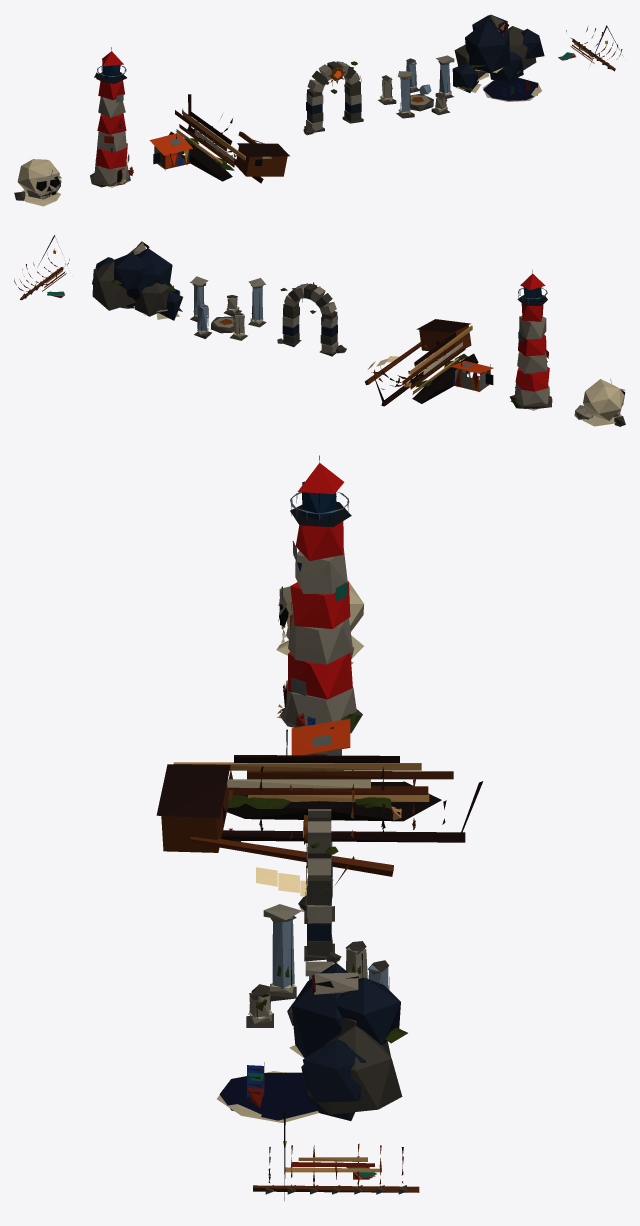
The model's file is tb_landmark_kit.three-web-toon.lod25.glb.
The picture shows the model from 3 angles, top to bottom: view 1: azimuth 30°, elevation 25°; view 2: azimuth 150°, elevation 25°; view 3: azimuth 270°, elevation 25°; orthographic projection. The views are drawn at different scales.
Parts seen in each view (by area): view 1: spring_lod, wreck_lod, lighthouse_lod, sun_arch_lod, pillar_ring_lod, skull_rock_lod, hut_lod, slipway_lod; view 2: spring_lod, wreck_lod, lighthouse_lod, sun_arch_lod, pillar_ring_lod, skull_rock_lod, hut_lod, slipway_lod; view 3: wreck_lod, spring_lod, lighthouse_lod, pillar_ring_lod, sun_arch_lod, slipway_lod, hut_lod, skull_rock_lod.
Boxes of the visible parts, bbox=[...] form: spring_lod: bbox=[452, 14, 544, 101]; wreck_lod: bbox=[169, 94, 289, 183]; lighthouse_lod: bbox=[90, 47, 133, 187]; sun_arch_lod: bbox=[303, 61, 363, 135]; pillar_ring_lod: bbox=[378, 55, 454, 118]; skull_rock_lod: bbox=[14, 159, 61, 206]; hut_lod: bbox=[149, 131, 192, 170]; slipway_lod: bbox=[558, 25, 622, 71]; spring_lod: bbox=[92, 241, 182, 320]; wreck_lod: bbox=[364, 319, 478, 406]; lighthouse_lod: bbox=[510, 270, 552, 410]; sun_arch_lod: bbox=[277, 282, 346, 356]; pillar_ring_lod: bbox=[190, 276, 266, 340]; skull_rock_lod: bbox=[574, 379, 625, 426]; hut_lod: bbox=[450, 358, 493, 391]; slipway_lod: bbox=[14, 235, 69, 300]; wreck_lod: bbox=[156, 755, 483, 896]; spring_lod: bbox=[217, 962, 407, 1122]; lighthouse_lod: bbox=[276, 455, 362, 733]; pillar_ring_lod: bbox=[246, 904, 389, 1027]; sun_arch_lod: bbox=[298, 809, 341, 963]; slipway_lod: bbox=[253, 1111, 419, 1200]; hut_lod: bbox=[286, 718, 350, 770]; skull_rock_lod: bbox=[276, 580, 364, 664].
Bounding box in the file's own units: 99.92 × 22.36 × 23.58.
